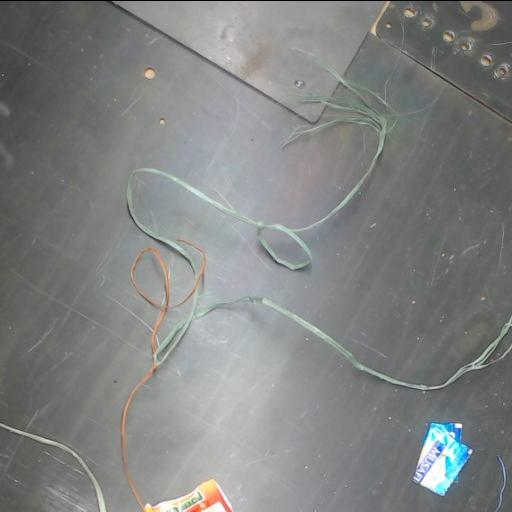conveyor belt: (0, 1, 511, 512), (127, 303, 511, 512), (0, 428, 97, 512)
packet: (413, 423, 472, 495), (144, 479, 233, 512)
thread: (121, 241, 336, 509), (127, 98, 388, 270), (216, 296, 511, 391), (0, 422, 107, 512), (493, 455, 506, 512)
